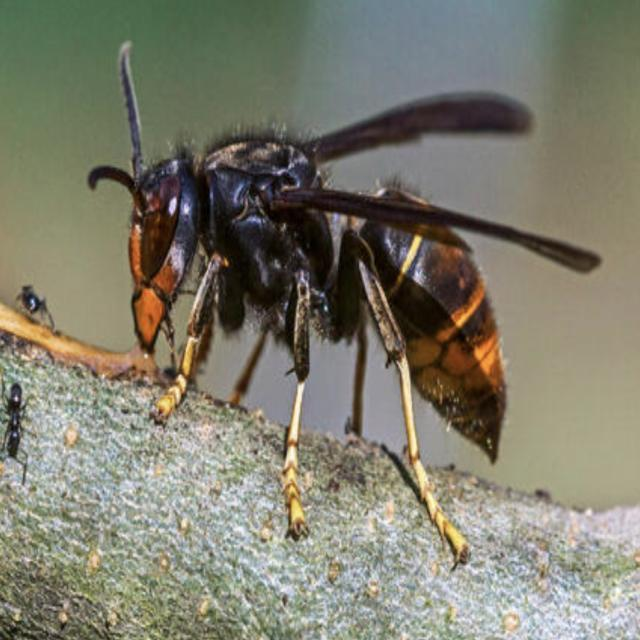Wasp: (77, 26, 602, 565)
